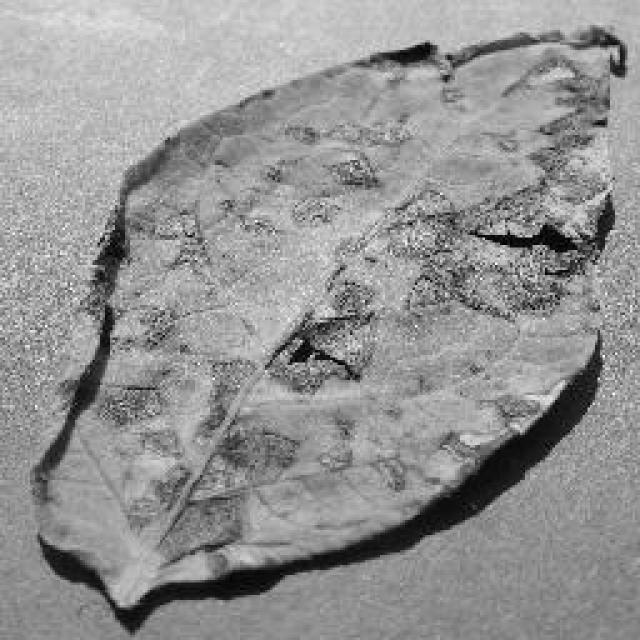Potato: (28, 20, 628, 610)
